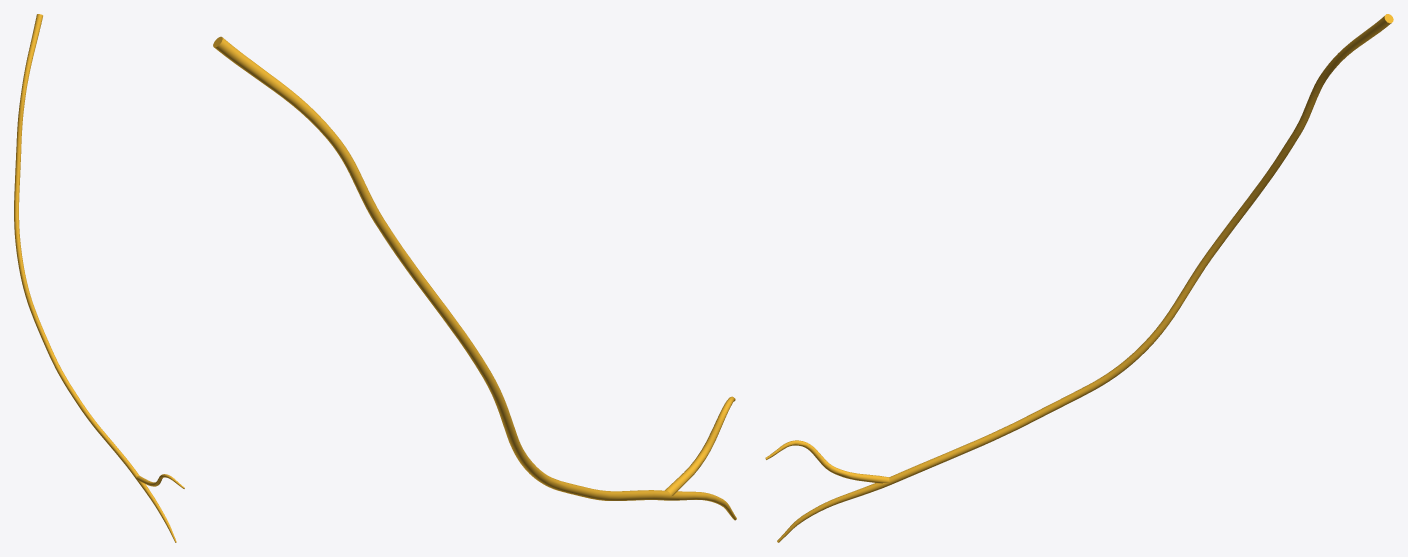
The model's file is nervoso-anterior-division-of-mandibular-nerve-r.glb.
The picture shows the model from 3 angles, left to right: view 1: azimuth 30°, elevation 25°; view 2: azimuth 150°, elevation 25°; view 3: azimuth 270°, elevation 25°; orthographic projection. The views are drawn at different scales.
Visible parts, largest first — view 1: Buccal nerve.r, Anterior division of mandibular nerve.r; view 2: Buccal nerve.r, Anterior division of mandibular nerve.r; view 3: Buccal nerve.r, Anterior division of mandibular nerve.r.
Boxes of the visible parts, left/top/right/bottom form: Buccal nerve.r: left=14, top=147, right=184, bottom=542; Anterior division of mandibular nerve.r: left=16, top=14, right=42, bottom=147; Buccal nerve.r: left=375, top=218, right=736, bottom=520; Anterior division of mandibular nerve.r: left=213, top=36, right=383, bottom=223; Buccal nerve.r: left=765, top=131, right=1299, bottom=542; Anterior division of mandibular nerve.r: left=1293, top=14, right=1393, bottom=135.
Bounding box in the file's own units: 0.0113 × 0.0485 × 0.0481.
